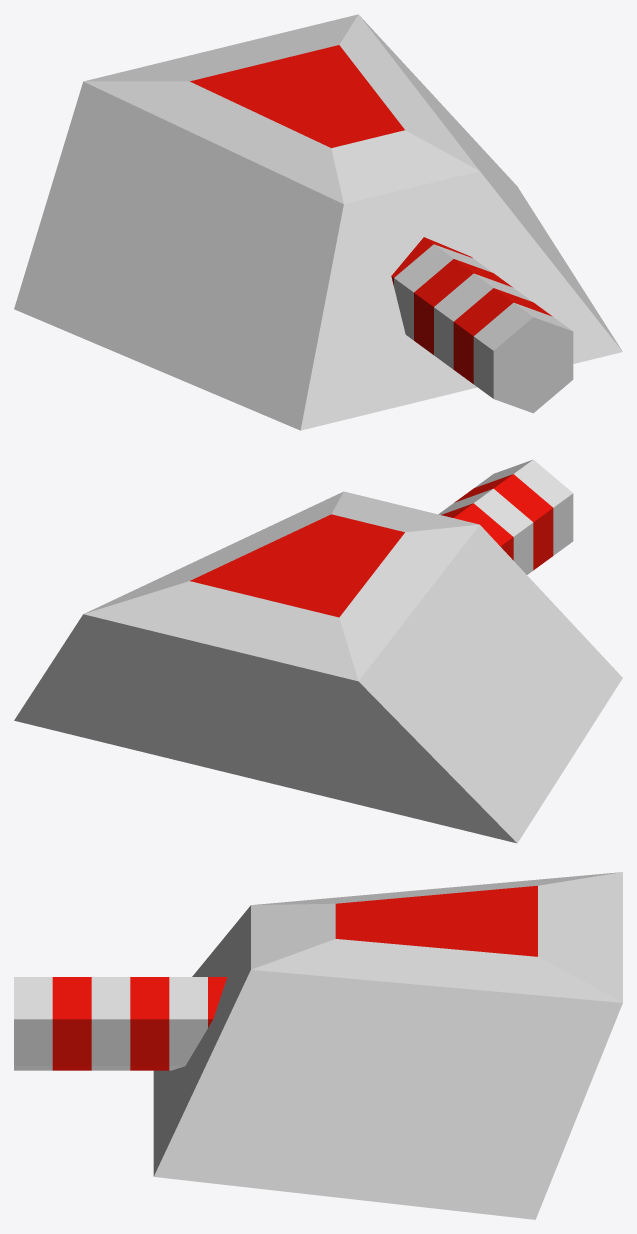
Rendered from TurretLaser.fbx.
3 views of the same model, one above another, from view 1: azimuth 30°, elevation 25°; view 2: azimuth 150°, elevation 25°; view 3: azimuth 270°, elevation 25° (orthographic). The views are drawn at different scales.
Visible parts, largest first — view 1: TurretLaser; view 2: TurretLaser; view 3: TurretLaser.
Part boxes in pixels (<box>): TurretLaser: <box>14,14,622,430</box>; TurretLaser: <box>14,459,622,843</box>; TurretLaser: <box>14,872,622,1219</box>.
Bounding box in the file's own units: 26.43 × 9.21 × 28.42.
